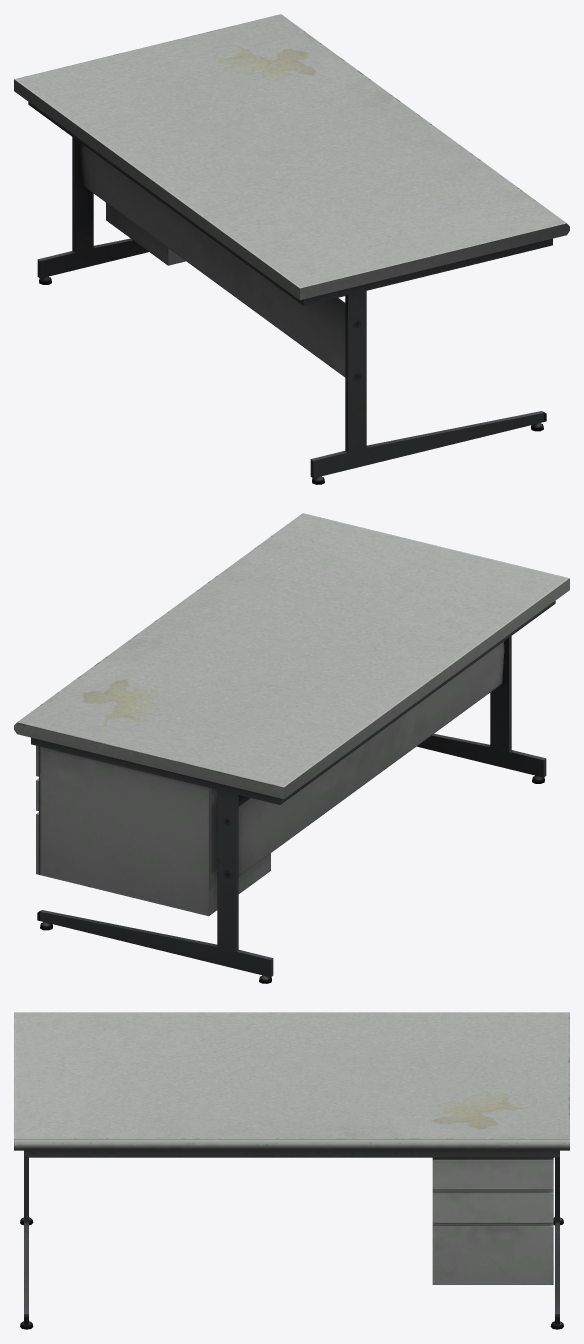
Rendered from lab_desk01.glb.
3 views of the same model, one above another, from view 1: azimuth 30°, elevation 25°; view 2: azimuth 150°, elevation 25°; view 3: azimuth 270°, elevation 25° (orthographic). The views are drawn at different scales.
Visible parts, largest first — view 1: lab_desk01_parts\obj\lab_desk01.obj; view 2: lab_desk01_parts\obj\lab_desk01.obj; view 3: lab_desk01_parts\obj\lab_desk01.obj.
Boxes of the visible parts, left/top/right/bottom form: lab_desk01_parts\obj\lab_desk01.obj: left=14, top=14, right=569, bottom=484; lab_desk01_parts\obj\lab_desk01.obj: left=14, top=513, right=569, bottom=983; lab_desk01_parts\obj\lab_desk01.obj: left=14, top=1012, right=569, bottom=1329.
Size of the model in its own units: 0.9911 by 0.7173 by 1.82.
1 material, 1 textured.
